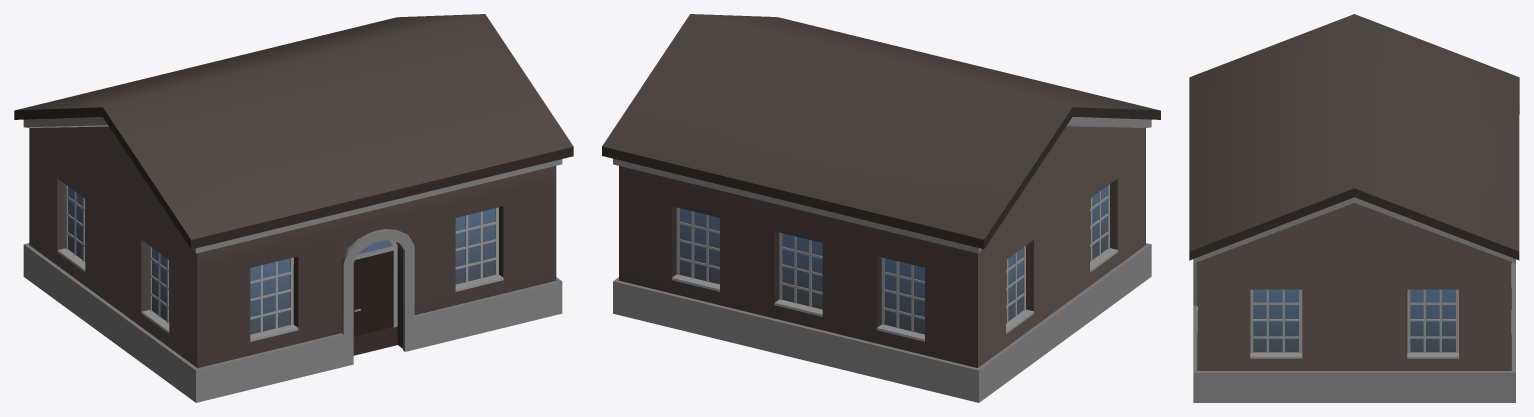
The model's file is Business_SmallBusiness_alt01.glb.
The picture shows the model from 3 angles, left to right: view 1: azimuth 30°, elevation 25°; view 2: azimuth 150°, elevation 25°; view 3: azimuth 270°, elevation 25°; orthographic projection. The views are drawn at different scales.
Parts seen in each view (by area): view 1: base5, color.002, windowRefl.044; view 2: base5, color.002, windowRefl.044; view 3: base5, color.002, windowRefl.044.
Part boxes in pixels (bbox=[...]): base5: bbox=[14, 14, 573, 402]; color.002: bbox=[29, 126, 556, 368]; windowRefl.044: bbox=[68, 186, 495, 334]; base5: bbox=[602, 14, 1160, 402]; color.002: bbox=[619, 126, 1145, 367]; windowRefl.044: bbox=[679, 186, 1107, 334]; base5: bbox=[1189, 14, 1519, 402]; color.002: bbox=[1197, 203, 1511, 370]; windowRefl.044: bbox=[1253, 289, 1455, 352].
Bounding box in the file's own units: 18.48 × 10.81 × 14.79.
